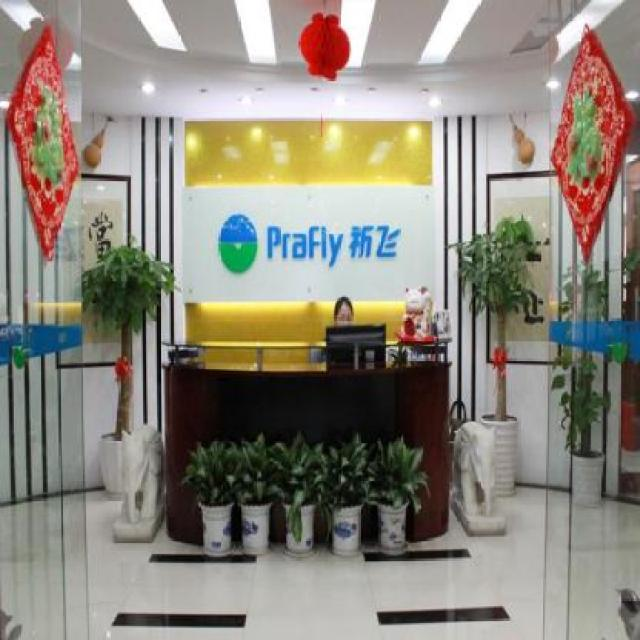frontdesk: (150, 318, 454, 566)
